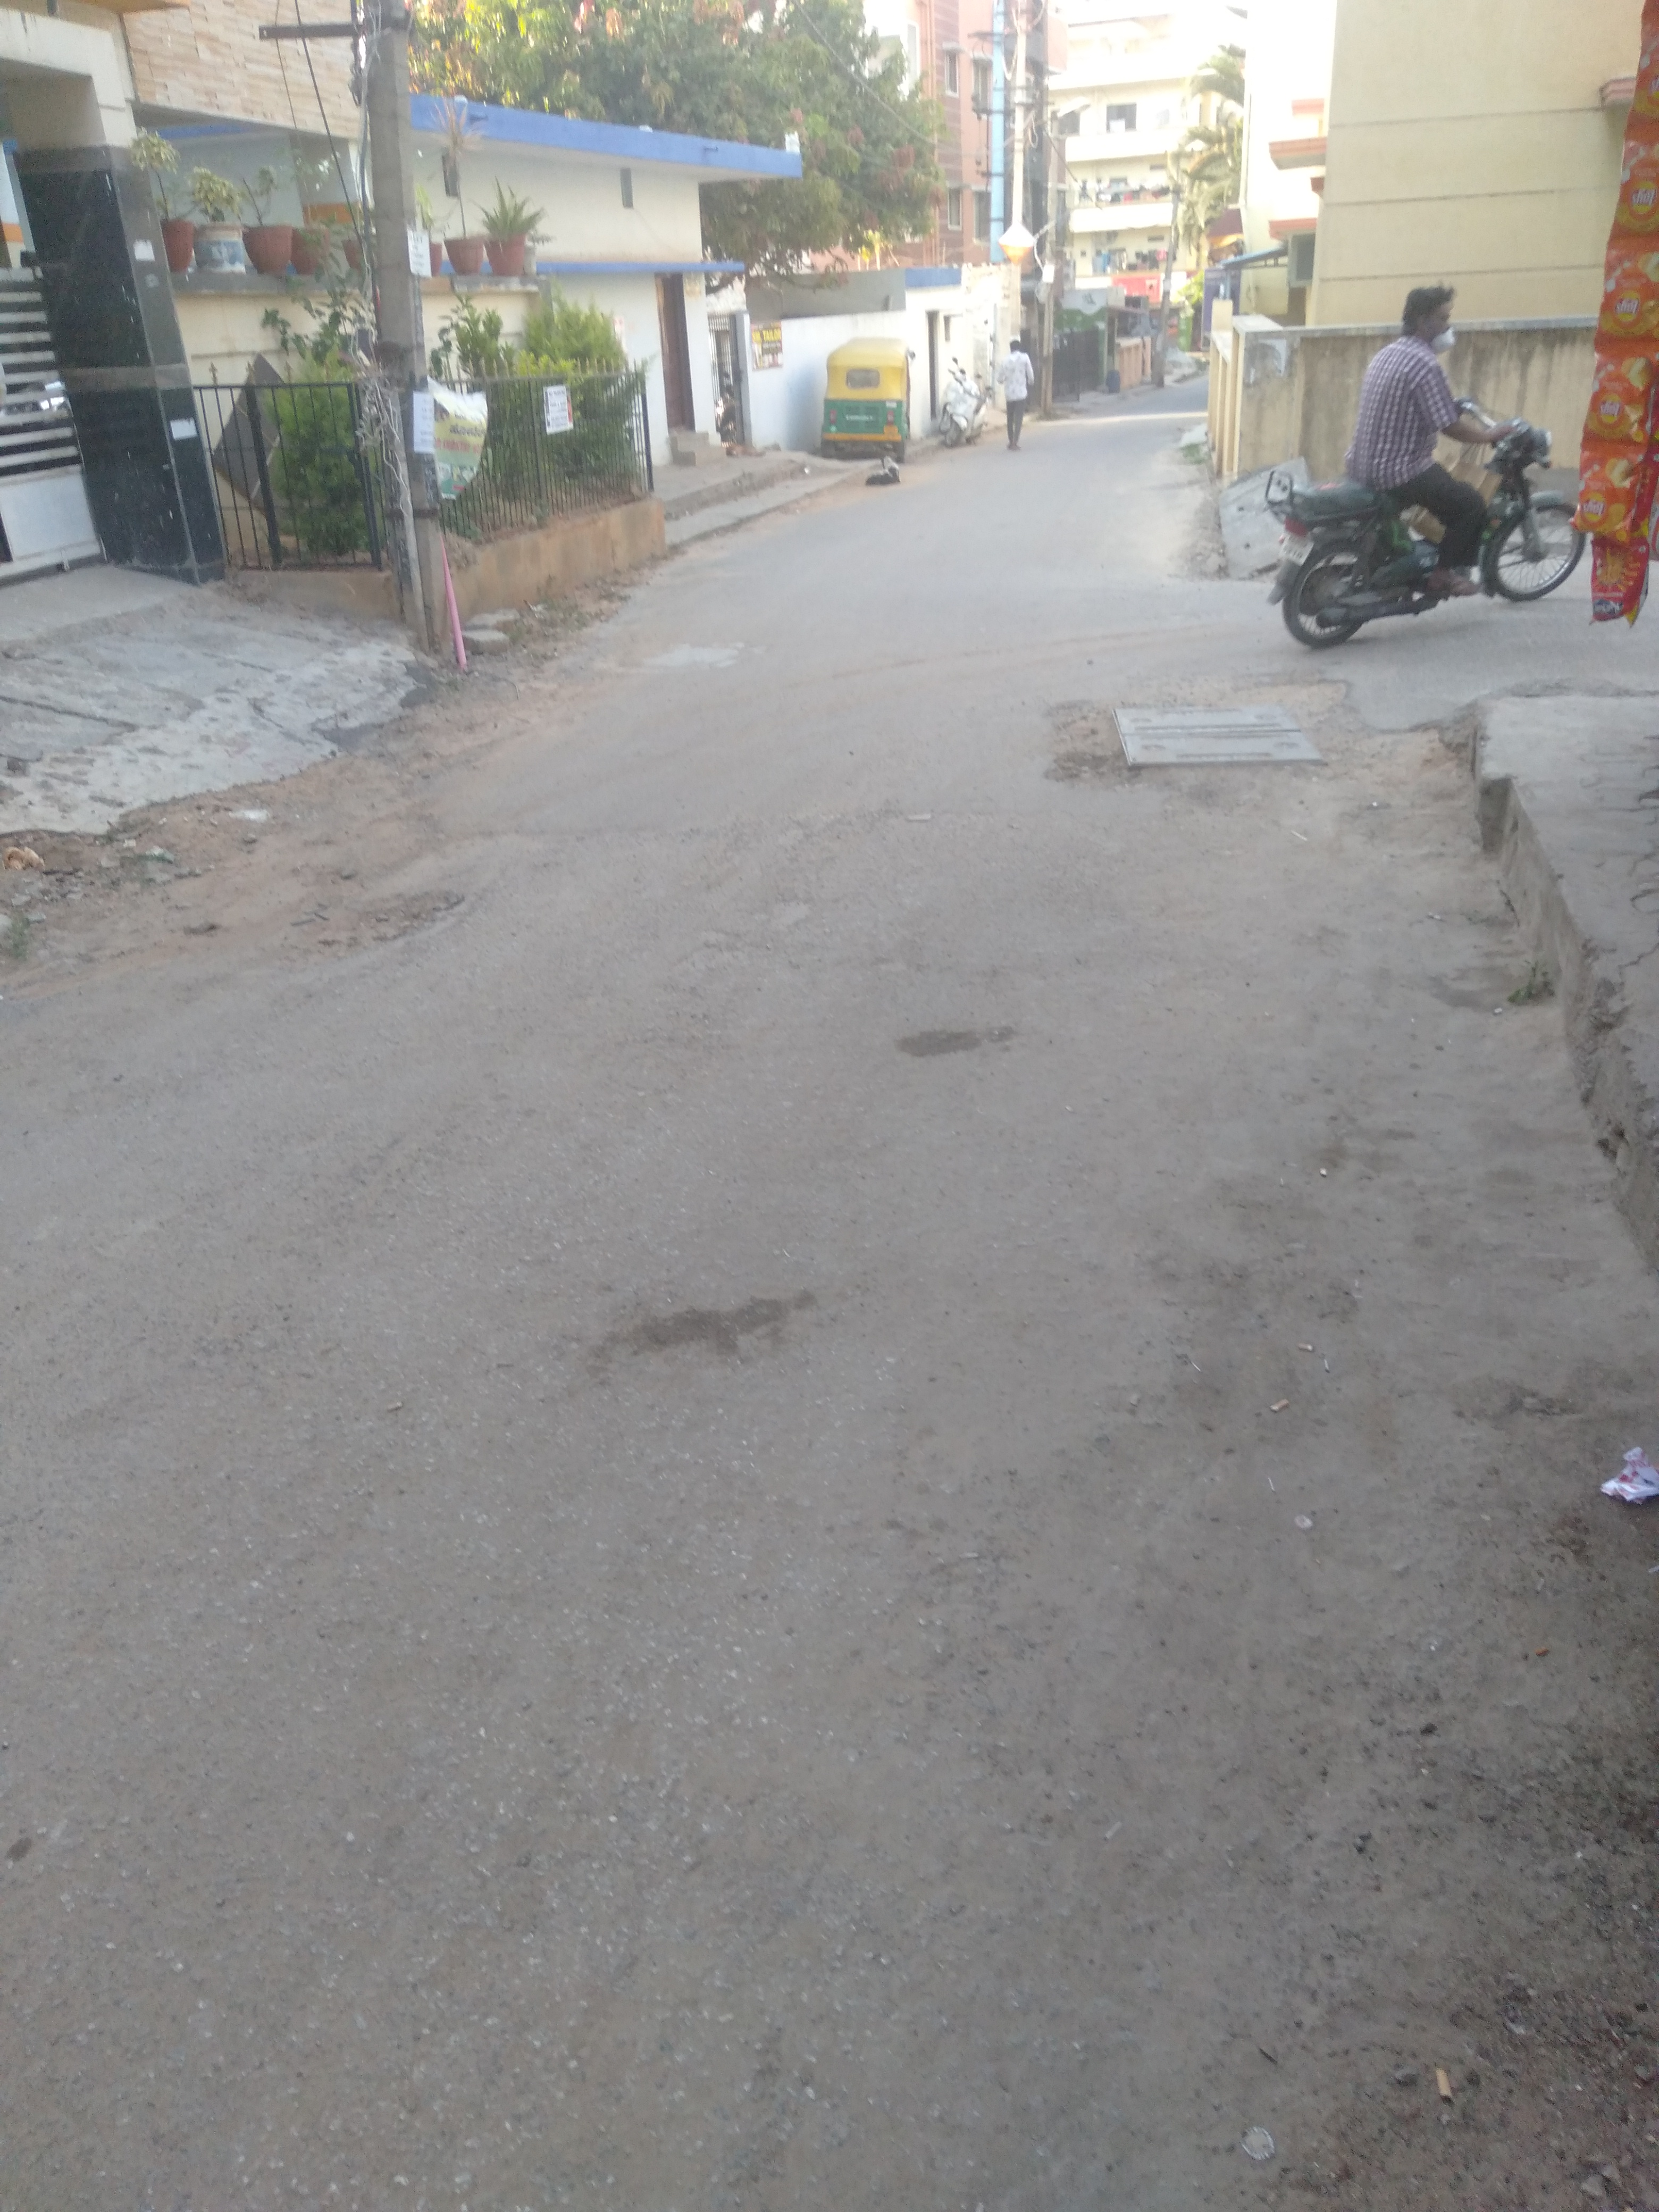auto: (821, 338, 911, 458)
two_wheelers: (1263, 399, 1586, 648), (945, 359, 990, 448)
